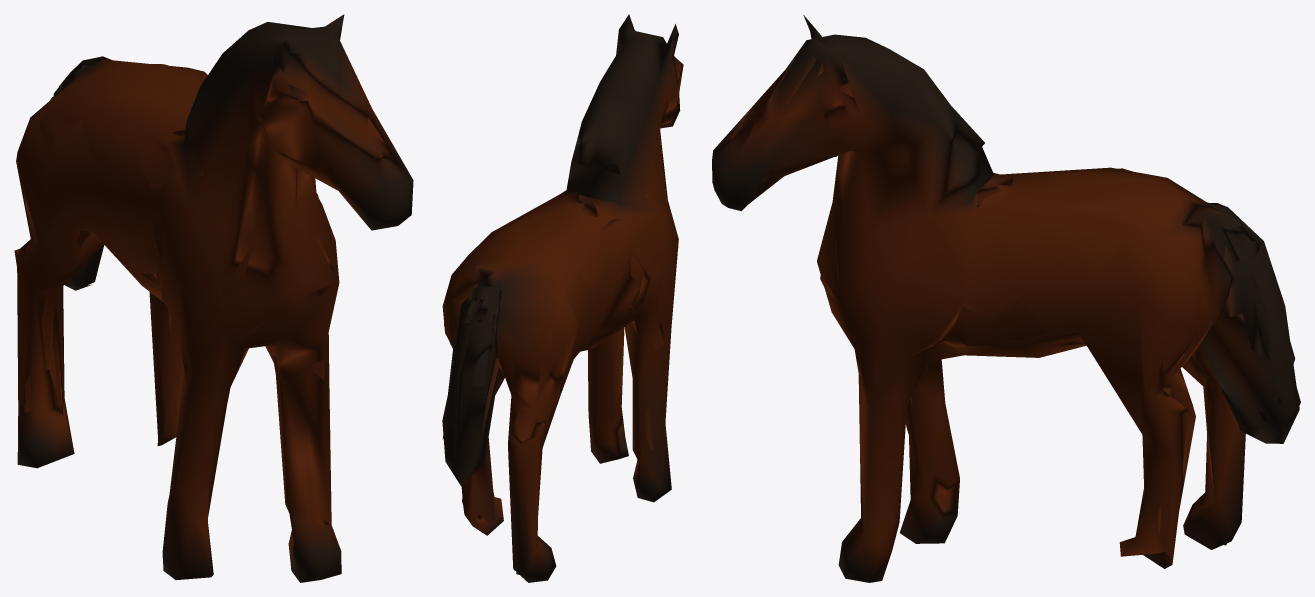
The model's file is gen3d-horse-lod1.glb.
3 renders of one model, left to right at view 1: azimuth 30°, elevation 25°; view 2: azimuth 150°, elevation 25°; view 3: azimuth 270°, elevation 25°, orthographic. The views are drawn at different scales.
Parts seen in each view (by area): view 1: part_0; view 2: part_0; view 3: part_0.
Boxes of the visible parts, x1,y1,x2,y2 form: part_0: (14,14,413,582); part_0: (442,14,683,582); part_0: (712,15,1300,582).
Size of the model in its own units: 0.3361 by 0.9993 by 0.9807.
